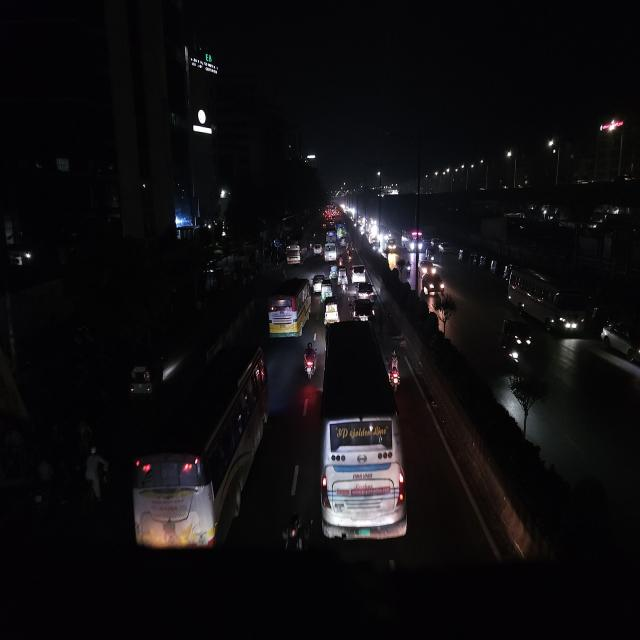bus: (128, 342, 270, 564), (316, 317, 406, 563), (504, 262, 590, 336), (266, 275, 312, 341), (284, 242, 304, 266), (402, 230, 422, 253), (324, 235, 337, 263), (382, 237, 397, 253)
car: (601, 317, 640, 365), (422, 272, 446, 300), (354, 296, 375, 322), (356, 279, 375, 302), (285, 243, 303, 266), (351, 262, 367, 284), (311, 272, 323, 297), (438, 239, 453, 257), (421, 256, 435, 275), (312, 244, 324, 258)
cng: (504, 313, 537, 353), (322, 294, 340, 326), (322, 276, 334, 298), (424, 247, 436, 261), (328, 264, 339, 279)
motorcycle: (498, 340, 522, 374), (302, 336, 318, 382), (388, 345, 402, 389), (339, 275, 348, 298), (406, 258, 413, 280), (347, 292, 353, 312)
pedestrian: (82, 443, 108, 504)
